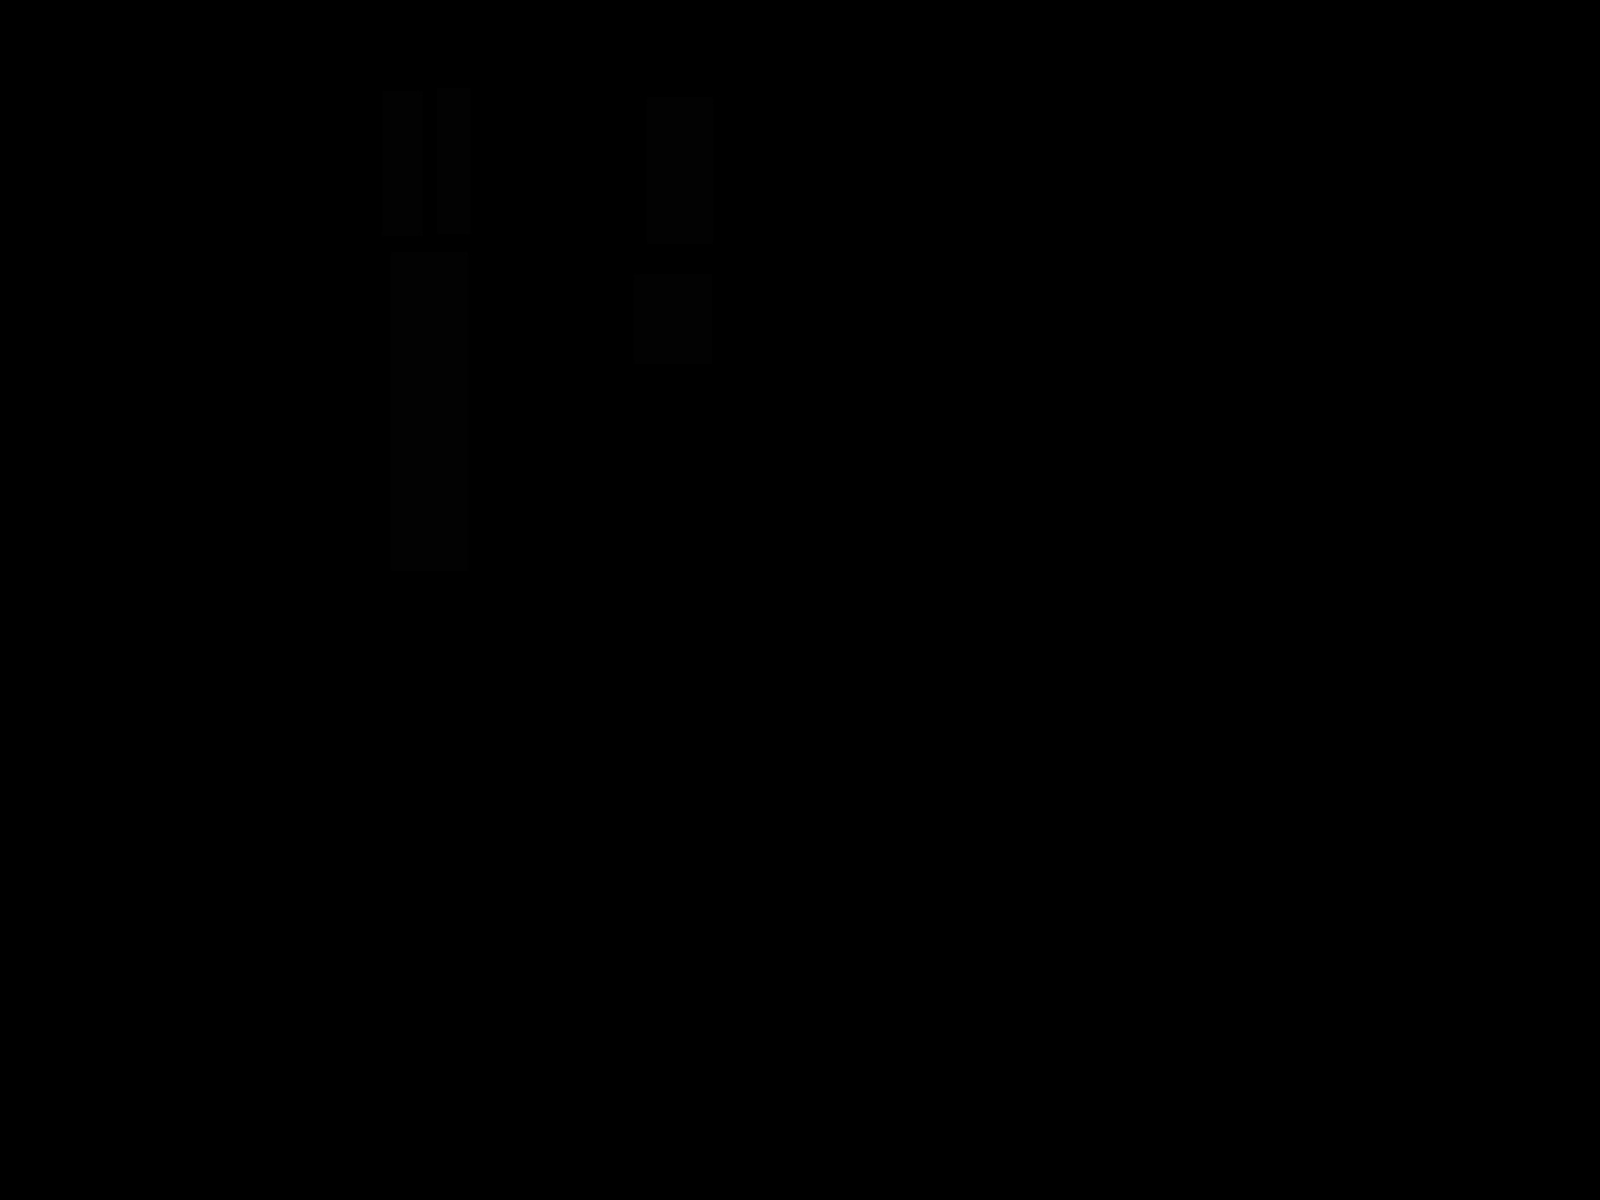1_overall: (84, 52, 787, 996)
3_typography: (391, 252, 467, 571), (648, 97, 713, 245), (382, 91, 423, 236), (437, 88, 471, 234)
5_stamp: (634, 274, 712, 364)
